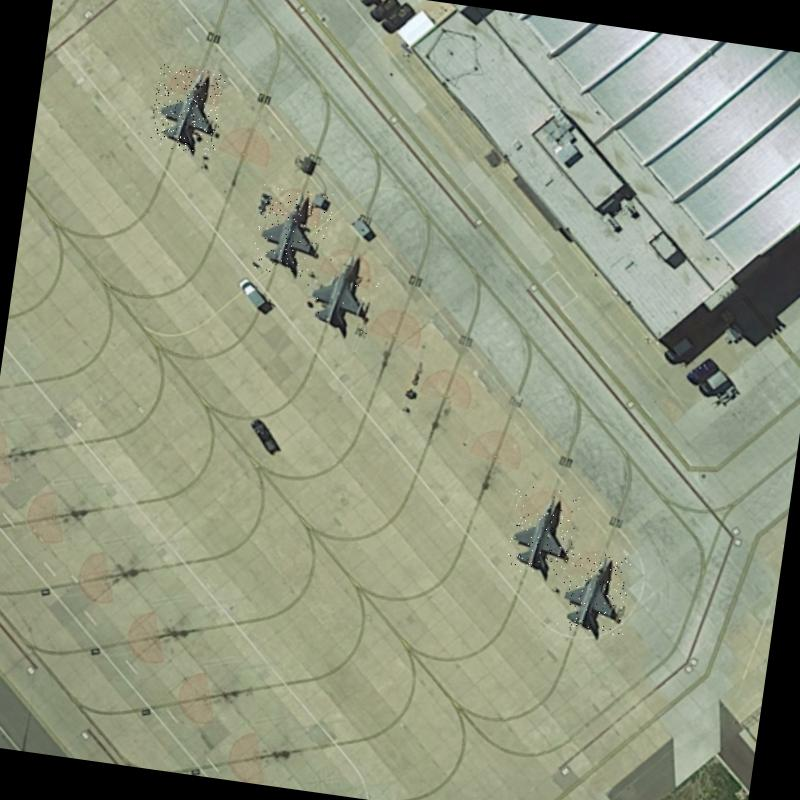A5: (251, 183, 334, 279), (300, 244, 383, 336), (148, 62, 226, 155), (504, 484, 580, 578), (556, 548, 634, 638)
